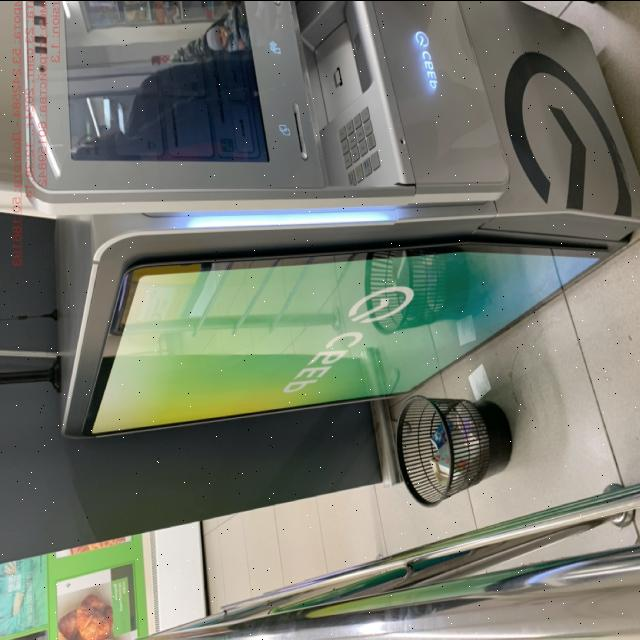bank: (22, 0, 640, 431)
